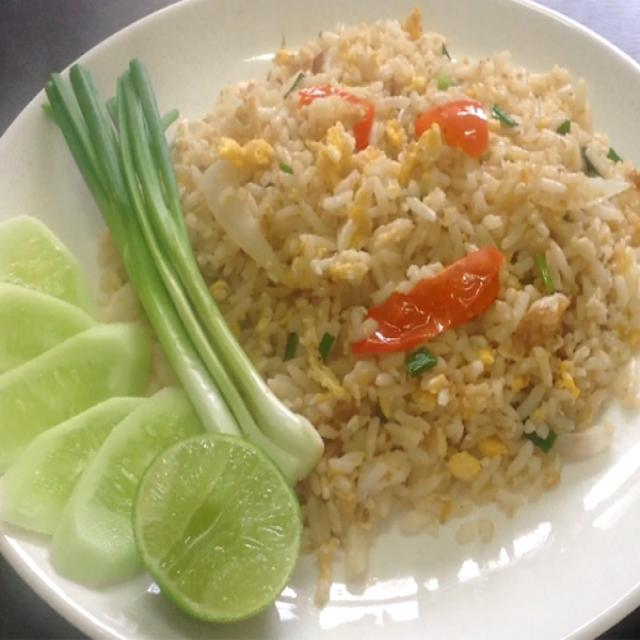fried rice: (132, 57, 620, 538)
vegetable: (70, 126, 204, 436), (527, 418, 560, 459), (407, 346, 438, 389), (495, 104, 526, 142)
